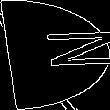N_W: (5, 33, 105, 77)
